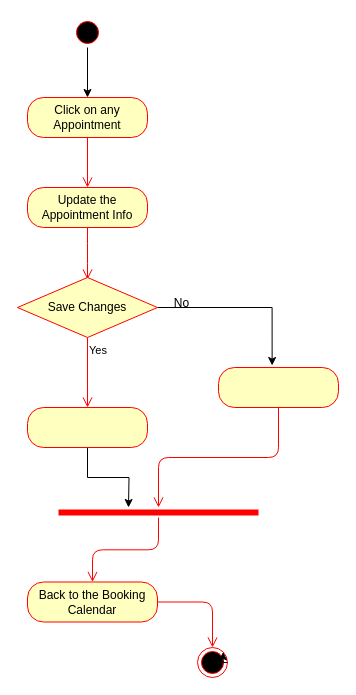
Some shapes in this 356 by 695 pixel diagram are drawn without their labels. The centre of each missing label's shape, as x and y in pixels:
"Appointment Information is Updated" belongs at (x=87, y=427).
"Cancel" belongs at (x=278, y=387).
